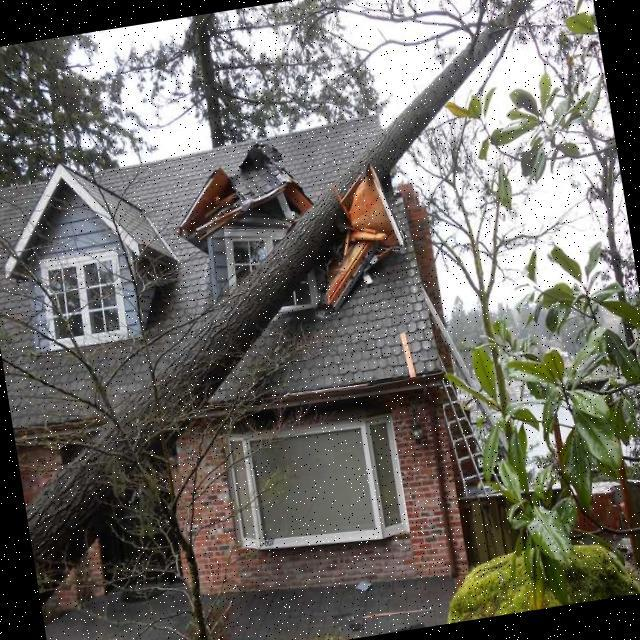fallen_object: (0, 0, 602, 586)
